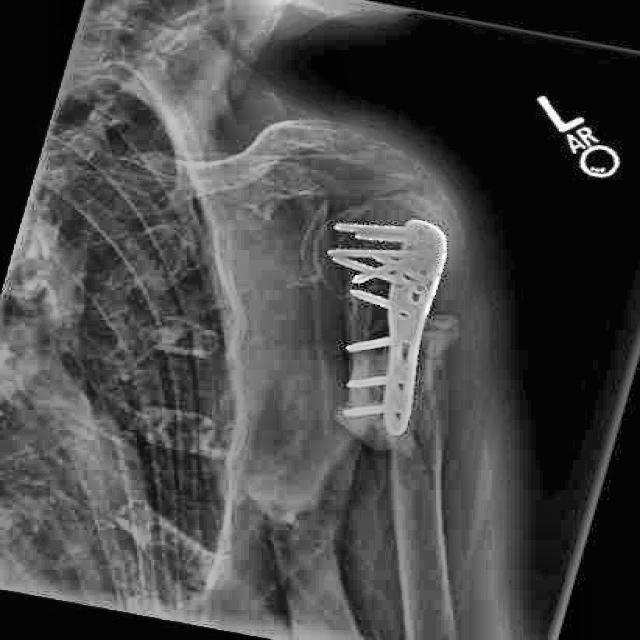forearm fracture: (349, 286, 473, 479)
